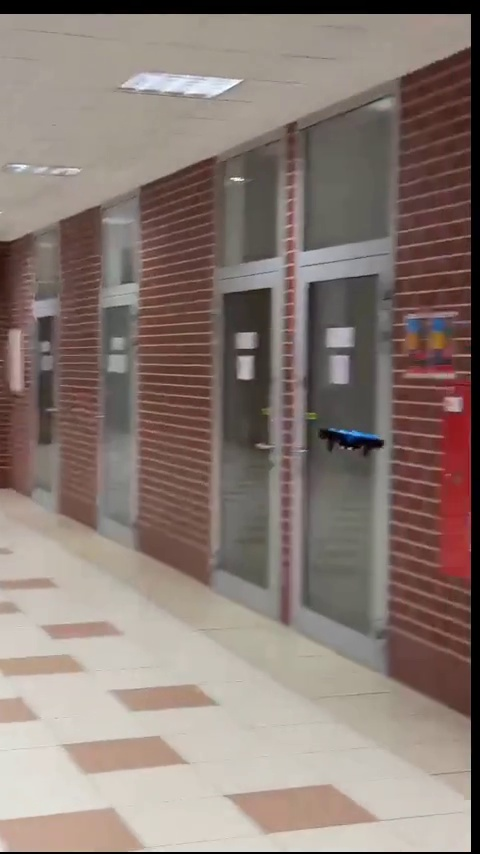drone: (321, 425, 388, 458)
